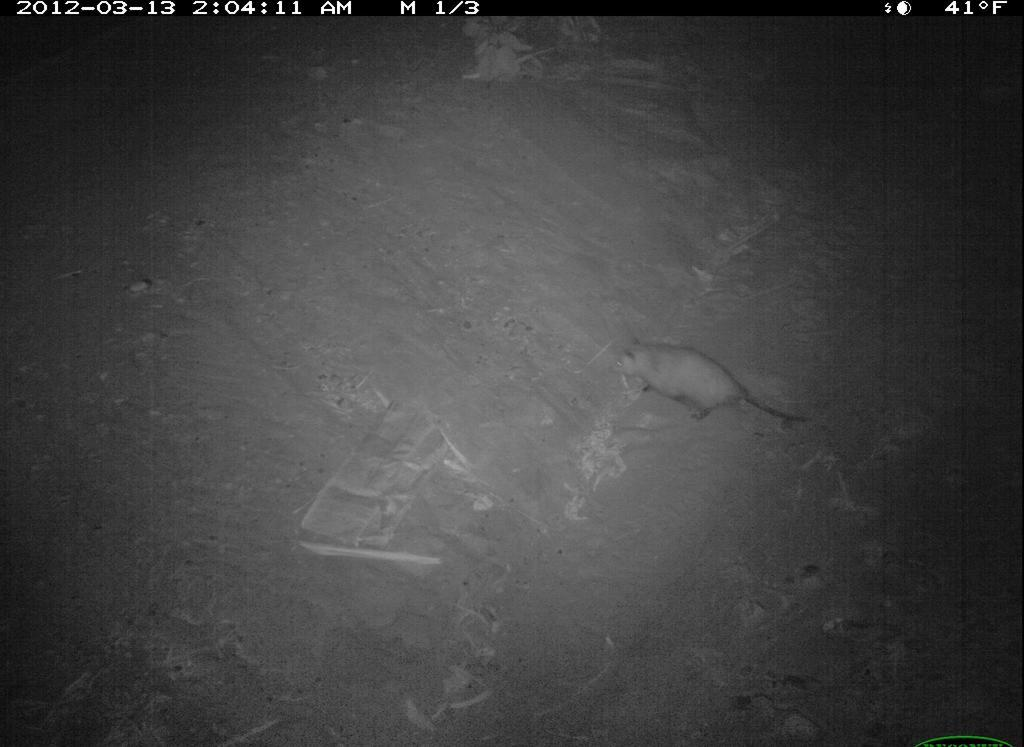opossum: (598, 340, 822, 452)
